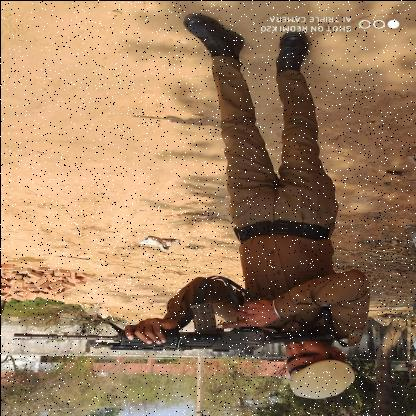rifle: (11, 299, 337, 357)
